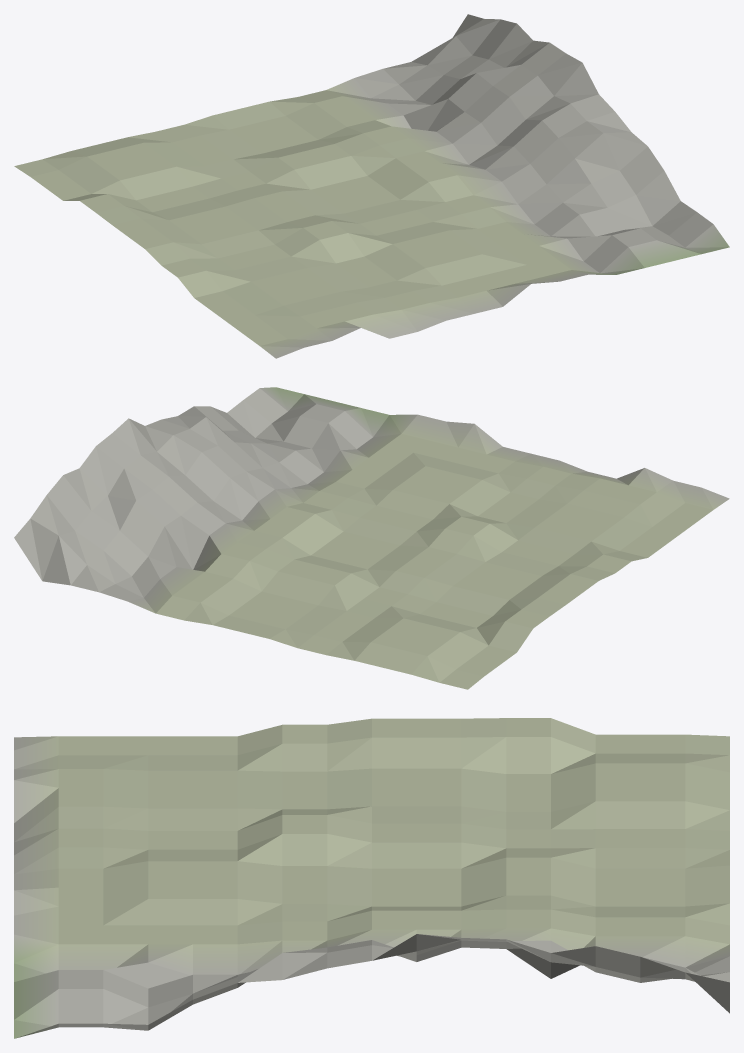
3 renders of one model, top to bottom at view 1: azimuth 30°, elevation 25°; view 2: azimuth 150°, elevation 25°; view 3: azimuth 270°, elevation 25°, orthographic. The views are drawn at different scales.
Size of the model in its own units: 32 by 5.96 by 32.
